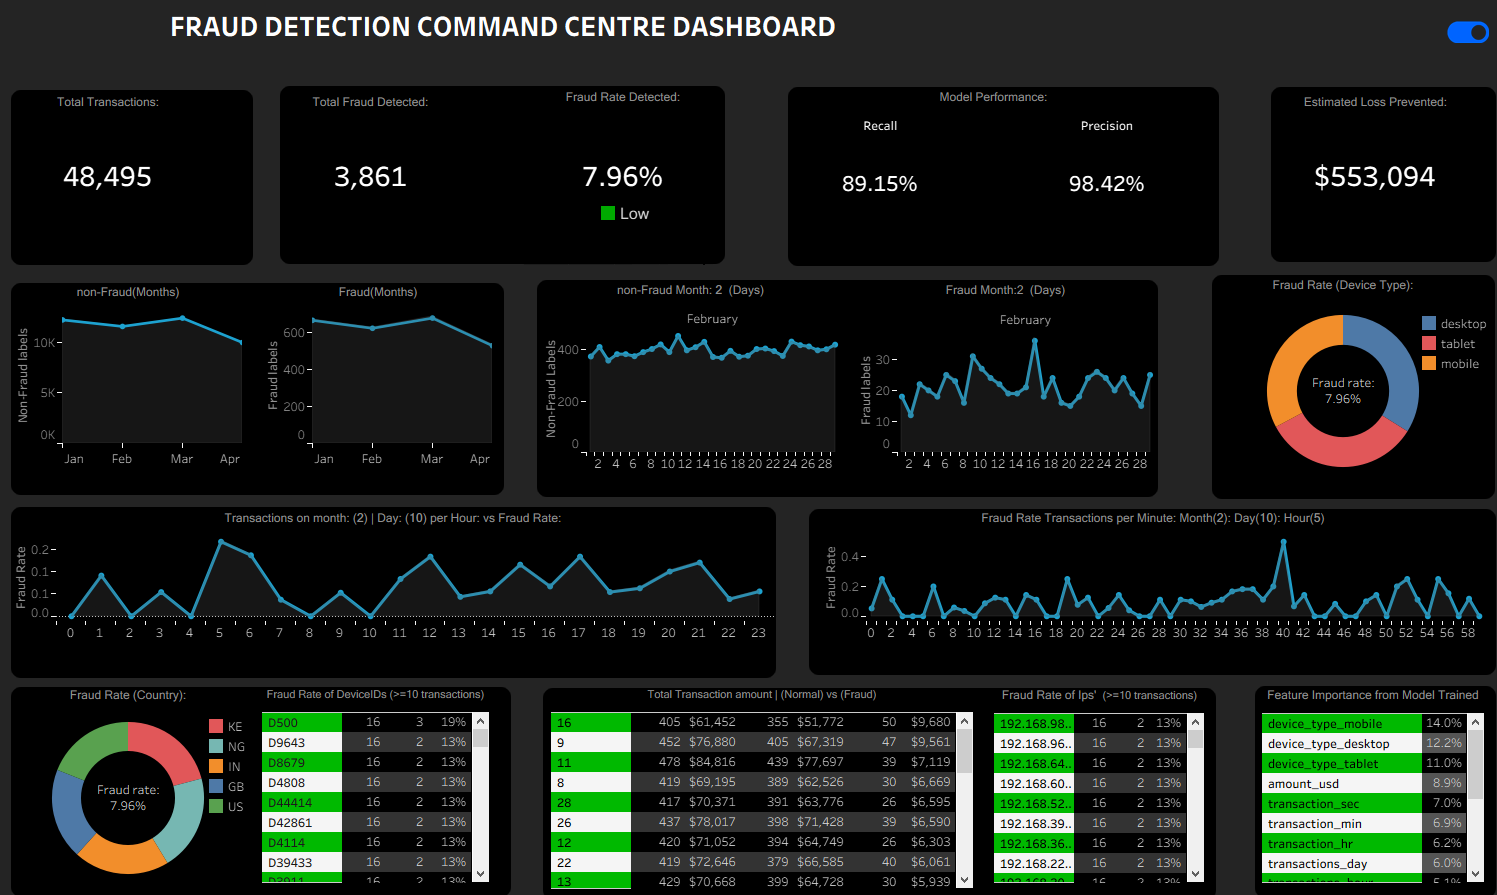

What the dashboard file says about the page in this screenshot:
{"tool":"tableau","page":{"name":"Fraud_DASHBOARD","canvas":[1000,1000],"units":"permille","ordinal":0},"visuals":[{"type":"text","box":[3.3,5.6,666.7,50]},{"type":"parameter","param":"[Parameters].[Parameter 4]","box":[616.7,5.6,108,65.6]},{"type":"blank","box":[670,5.6,293.3,65.6]},{"type":"parameter","param":"[Parameters].[Parameter 1]","box":[724.7,5.6,108,65.6]},{"type":"parameter","param":"[Parameters].[Parameter 5]","box":[832.7,5.6,108,65.6]},{"type":"blank","box":[940.7,5.6,22.7,65.6]},{"type":"dashboard-object","box":[963.3,5.6,33.3,65.6]},{"type":"blank","box":[3.3,71.1,993.3,22.2]},{"type":"worksheet","title":"total_transactions_kpi","mark":"Text","box":[3.3,93.3,140,175.6]},{"type":"blank","box":[143.3,93.3,26.7,175.6]},{"type":"worksheet","title":"total_fraud_detected_kpi","mark":"Text","box":[170,93.3,156.7,175.6]},{"type":"blank","box":[326.7,93.3,20,175.6]},{"type":"worksheet","title":"fraud_rate_detected_kpi","mark":"Text","box":[346.7,93.3,140,175.6]},{"type":"blank","box":[486.7,93.3,20,175.6]},{"type":"worksheet","title":"model_performance","mark":"Automatic","rows":["Model"],"box":[506.7,93.3,313.3,175.6]},{"type":"blank","box":[820,93.3,20,175.6]},{"type":"worksheet","title":"Estimated_loss_prevented","mark":"Automatic","box":[840,93.3,156.7,175.6]},{"type":"legend","title":"Risk Segmentation","param":"[federated.1k2awme1yci3pw1ax73hn0v18sy5].[usr:Calculation_0527823026311190:nk]","box":[400,227.8,95.3,60]},{"type":"worksheet","title":"Risk Segmentation","mark":"Automatic","rows":["Calculation_0527823026311190"],"cols":["Calculation_0527823019245576"],"box":[343.3,230,140,66.7]},{"type":"blank","box":[3.3,268.9,993.3,33.3]},{"type":"worksheet","title":"fraud_vs Normal_months","mark":"Line","rows":["Calculation_0527822989635584","Calculation_0527822989635584"],"cols":["timestamp"],"box":[3.3,302.2,166.7,236.1]},{"type":"worksheet","title":"fraud_months","mark":"Line","rows":["Calculation_0500609486360578","Calculation_0500609486360578"],"cols":["timestamp"],"box":[170,302.2,166.7,236.1]},{"type":"blank","box":[336.7,302.2,20,236.1]},{"type":"worksheet","title":"month_(fraud_vs_non-fraud)_days","mark":"Line","rows":["Calculation_0527822992084993","Calculation_0527822992084993"],"cols":["timestamp","timestamp"],"box":[356.7,302.2,210,236.1]},{"type":"worksheet","title":"month_fraud_days","mark":"Line","rows":["Calculation_0500609492525060","Calculation_0500609492525060"],"cols":["timestamp","timestamp"],"box":[566.7,302.2,210,236.1]},{"type":"blank","box":[776.7,302.2,20,236.1]},{"type":"worksheet","title":"fraud_rate_device_type","mark":"Pie","rows":["Calculation_0500609498243079","Calculation_0500609498243079"],"box":[796.7,302.2,200,236.7]},{"type":"legend","title":"fraud_rate_device_type","param":"[federated.1k2awme1yci3pw1ax73hn0v18sy5].[none:device_type:nk]","box":[947.3,350,48,66.7]},{"type":"blank","box":[3.3,538.3,993.3,22.2]},{"type":"worksheet","title":"transactions_hour_vs_fraudrate","mark":"Line","rows":["Calculation_0524798995738633","Calculation_0524798995738633"],"cols":["Calculation_0524798991777799"],"box":[3.3,560.6,520,164.4]},{"type":"blank","box":[523.3,560.6,20,164.4]},{"type":"worksheet","title":"transactions_min_vs_fraudrate","mark":"Line","rows":["Calculation_0524798995738633","Calculation_0524798995738633"],"cols":["Calculation_0524798992646152"],"box":[543.3,560.6,453.3,164.4]},{"type":"blank","box":[3.3,725,993.3,33.3]},{"type":"worksheet","title":"fraud_rate_country ","mark":"Pie","rows":["Calculation_0500609498243079","Calculation_0500609498243079"],"box":[3.3,758.3,166.7,236.1]},{"type":"worksheet","title":"transaction_per_device_fraud_rate","mark":"Text","rows":["device_id"],"box":[170,758.3,166.7,236.1]},{"type":"blank","box":[336.7,758.3,20,236.1]},{"type":"worksheet","title":"transactions_amounts_vs_fraud_rate","mark":"Automatic","rows":["Calculation_0524798990921734"],"box":[356.7,758.3,300,236.1]},{"type":"worksheet","title":"fraud_rate_ip_level_activity","mark":"Automatic","rows":["ip_address"],"box":[656.6,758.3,160,236.1]},{"type":"blank","box":[816.6,758.3,20,236.1]},{"type":"worksheet","title":"feature_importance_model","mark":"Automatic","rows":["features"],"box":[836.6,758.3,160,236.1]},{"type":"legend","title":"fraud_rate_country ","param":"[federated.1k2awme1yci3pw1ax73hn0v18sy5].[none:country:nk]","box":[138.7,797.8,34.7,131.1]}]}

Visuals, with their boxes on the dashboard's canvas, which has no fixed pixel size, in thousandths of its width and height (x1, y1, x2, y2). These are canvas units, not pixel positions in the 1497x895 screenshot, which may show the page scaled, cropped or inside an application window:
text: crop(3, 6, 670, 56)
parameter: crop(617, 6, 725, 71)
blank: crop(670, 6, 963, 71)
parameter: crop(725, 6, 833, 71)
parameter: crop(833, 6, 941, 71)
blank: crop(941, 6, 963, 71)
dashboard-object: crop(963, 6, 997, 71)
blank: crop(3, 71, 997, 93)
"total_transactions_kpi" worksheet (Text marks): crop(3, 93, 143, 269)
blank: crop(143, 93, 170, 269)
"total_fraud_detected_kpi" worksheet (Text marks): crop(170, 93, 327, 269)
blank: crop(327, 93, 347, 269)
"fraud_rate_detected_kpi" worksheet (Text marks): crop(347, 93, 487, 269)
blank: crop(487, 93, 507, 269)
"model_performance" worksheet: crop(507, 93, 820, 269)
blank: crop(820, 93, 840, 269)
"Estimated_loss_prevented" worksheet: crop(840, 93, 997, 269)
"Risk Segmentation" legend: crop(400, 228, 495, 288)
"Risk Segmentation" worksheet: crop(343, 230, 483, 297)
blank: crop(3, 269, 997, 302)
"fraud_vs Normal_months" worksheet (Line marks): crop(3, 302, 170, 538)
"fraud_months" worksheet (Line marks): crop(170, 302, 337, 538)
blank: crop(337, 302, 357, 538)
"month_(fraud_vs_non-fraud)_days" worksheet (Line marks): crop(357, 302, 567, 538)
"month_fraud_days" worksheet (Line marks): crop(567, 302, 777, 538)
blank: crop(777, 302, 797, 538)
"fraud_rate_device_type" worksheet (Pie marks): crop(797, 302, 997, 539)
"fraud_rate_device_type" legend: crop(947, 350, 995, 417)
blank: crop(3, 538, 997, 560)
"transactions_hour_vs_fraudrate" worksheet (Line marks): crop(3, 561, 523, 725)
blank: crop(523, 561, 543, 725)
"transactions_min_vs_fraudrate" worksheet (Line marks): crop(543, 561, 997, 725)
blank: crop(3, 725, 997, 758)
"fraud_rate_country " worksheet (Pie marks): crop(3, 758, 170, 994)
"transaction_per_device_fraud_rate" worksheet (Text marks): crop(170, 758, 337, 994)
blank: crop(337, 758, 357, 994)
"transactions_amounts_vs_fraud_rate" worksheet: crop(357, 758, 657, 994)
"fraud_rate_ip_level_activity" worksheet: crop(657, 758, 817, 994)
blank: crop(817, 758, 837, 994)
"feature_importance_model" worksheet: crop(837, 758, 997, 994)
"fraud_rate_country " legend: crop(139, 798, 173, 929)
